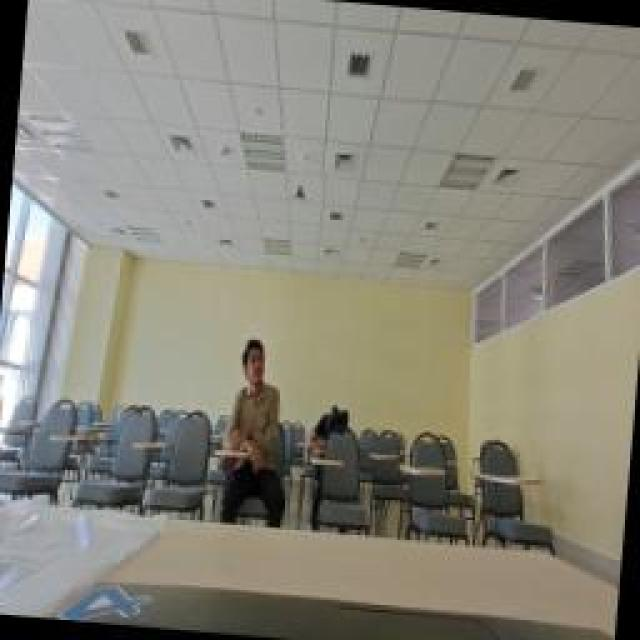sleep: (310, 398, 358, 460)
study: (215, 330, 300, 530)
